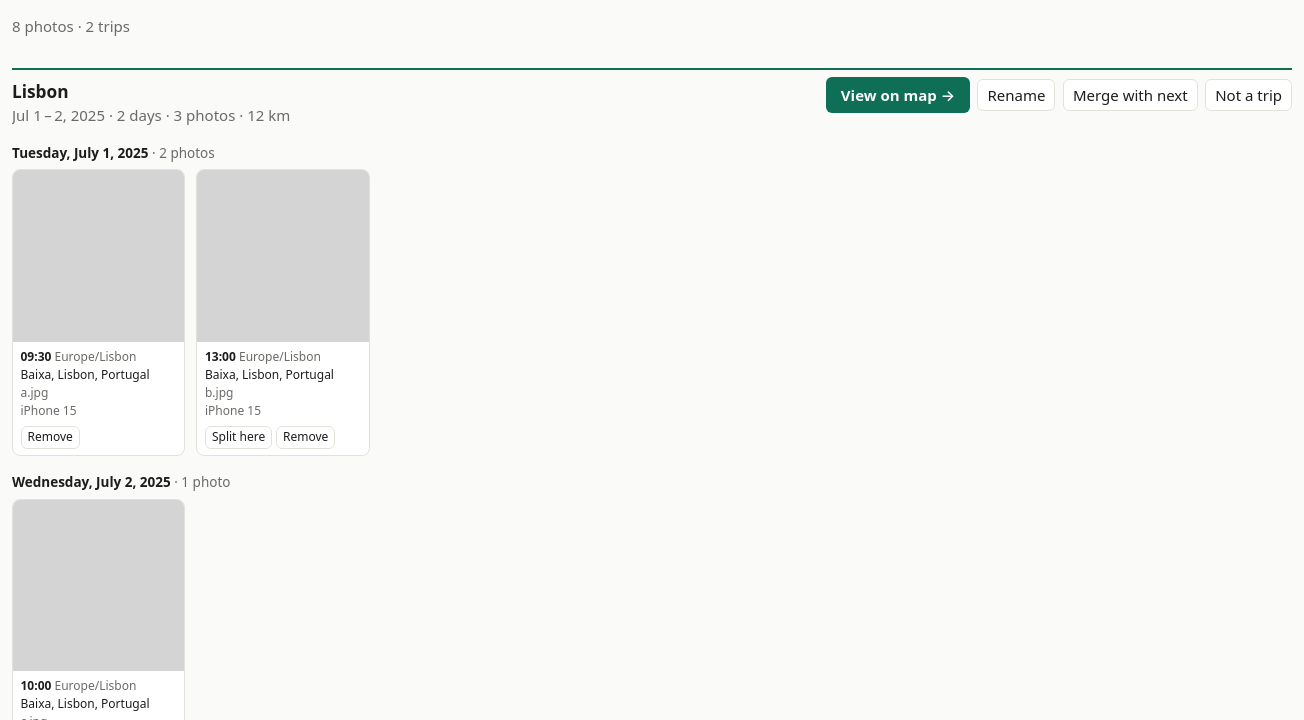
Test: trip edits › renames a trip, refetches the timeline, and closes the form
The width and height of the screenshot is (1304, 720).
Click the button "Rename": (1016, 95) [978, 79, 1056, 111]
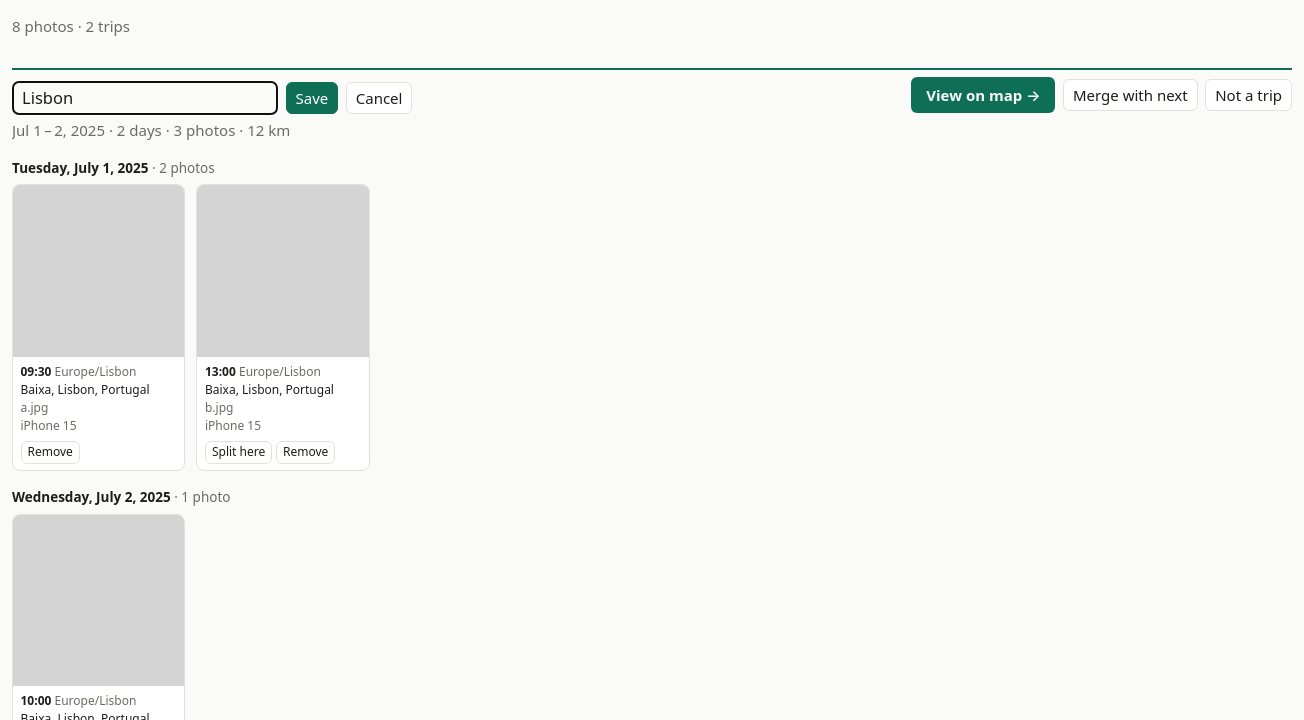
Replace the text in the field named "Trip name" with "  Lisbon with Sam ": (145, 98) [12, 81, 278, 115]
Then press Enter
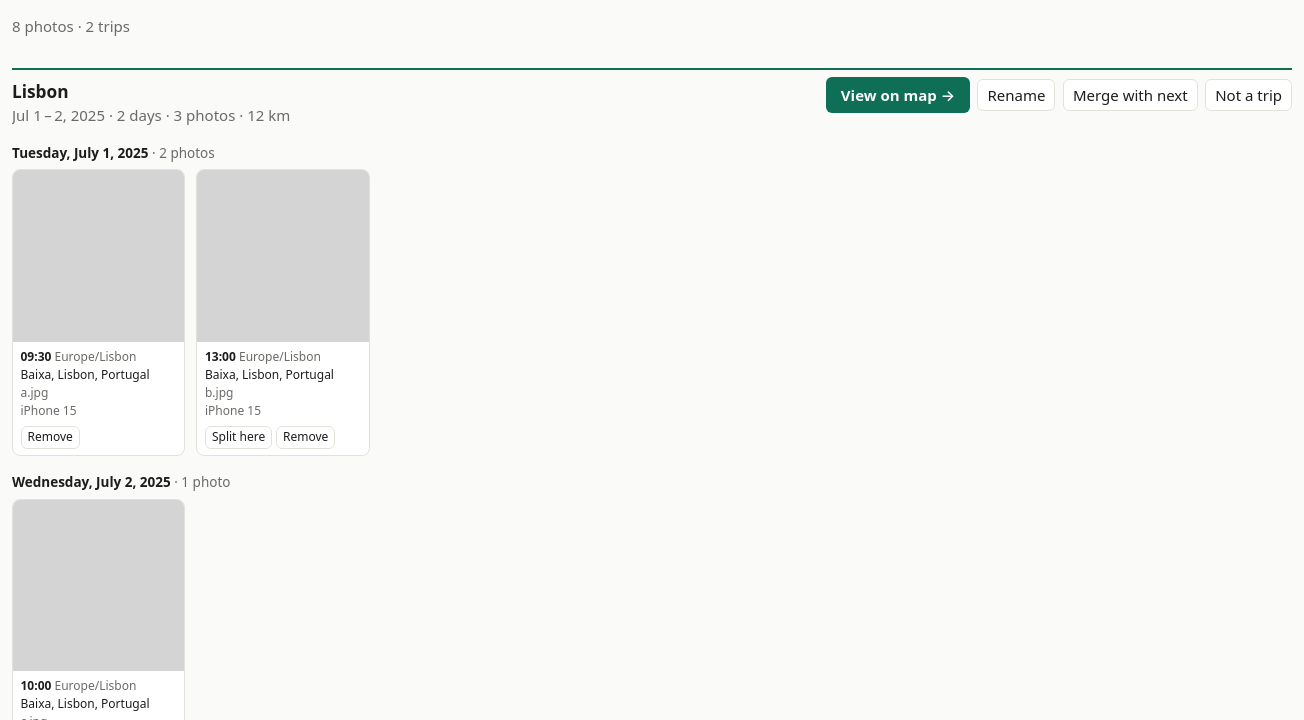
Check: the field is gone
